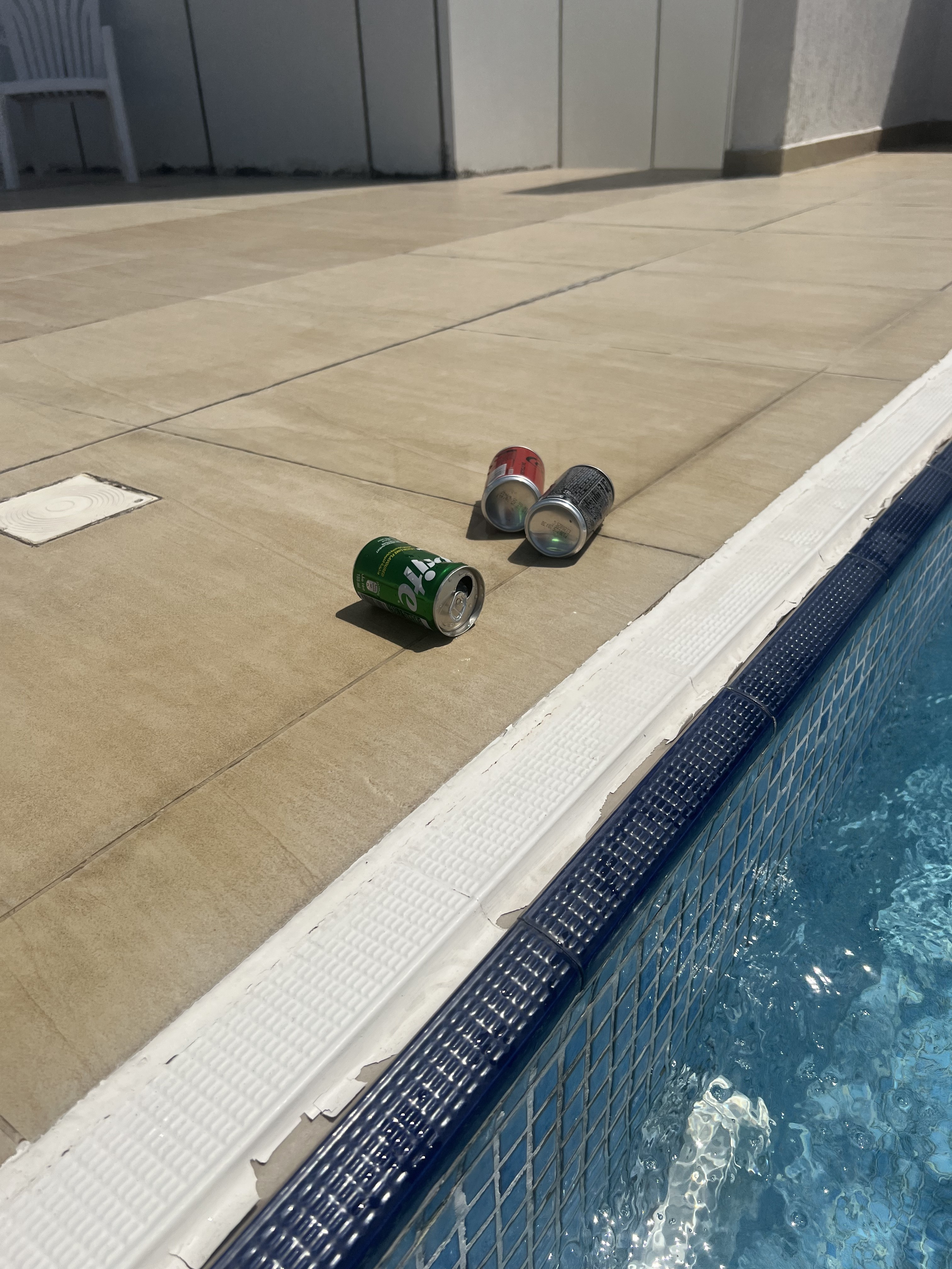debris: (350, 525, 489, 656), (517, 452, 617, 573), (475, 433, 544, 530)
